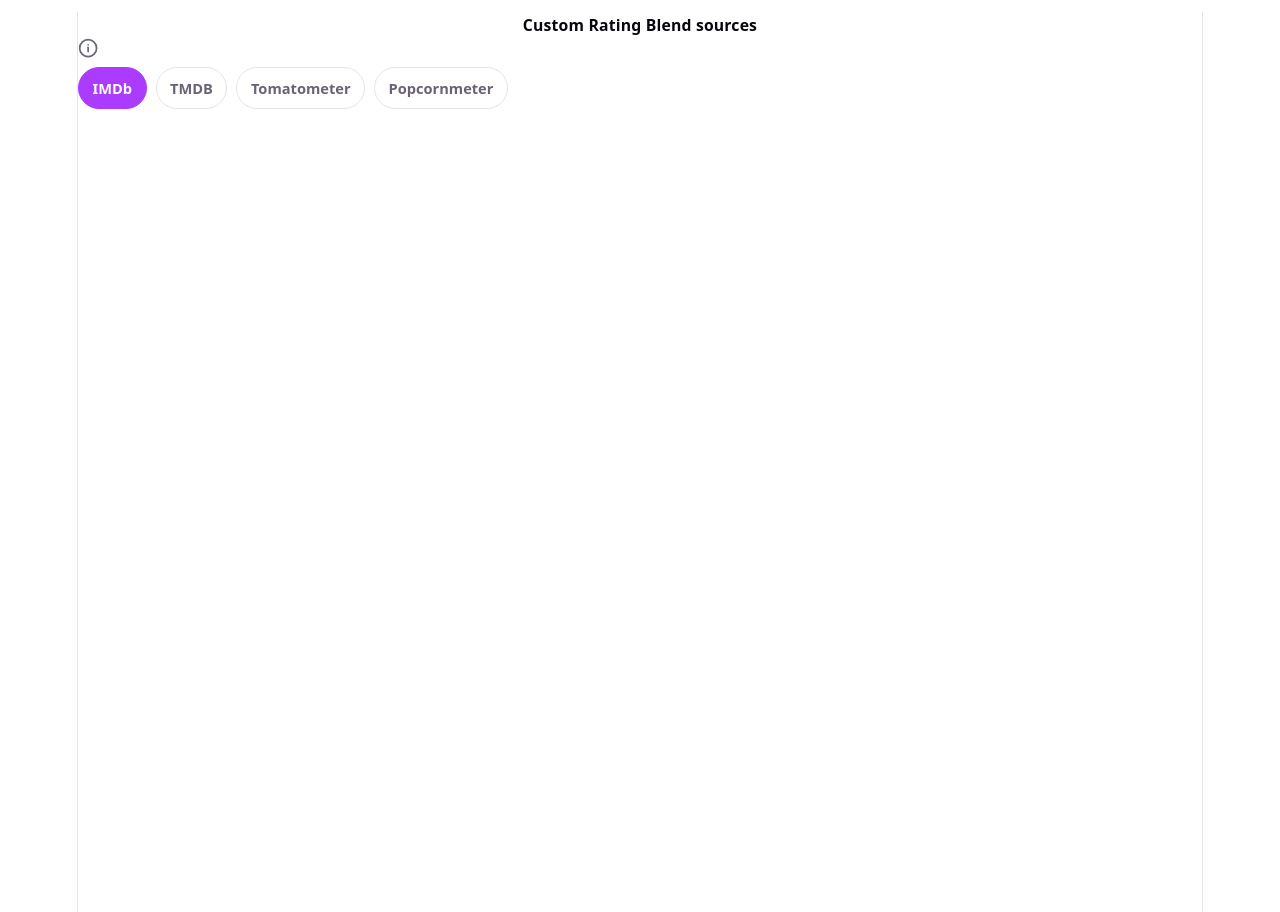
Test: FRONTEND-132 amendment: info disclosure explains the last-chip guard › reveals the last-chip-cannot-be-deselected explanation on click
The width and height of the screenshot is (1280, 912).
Click the button named "about custom rating blend sources" at (88, 48), box 78,38 -> 98,58
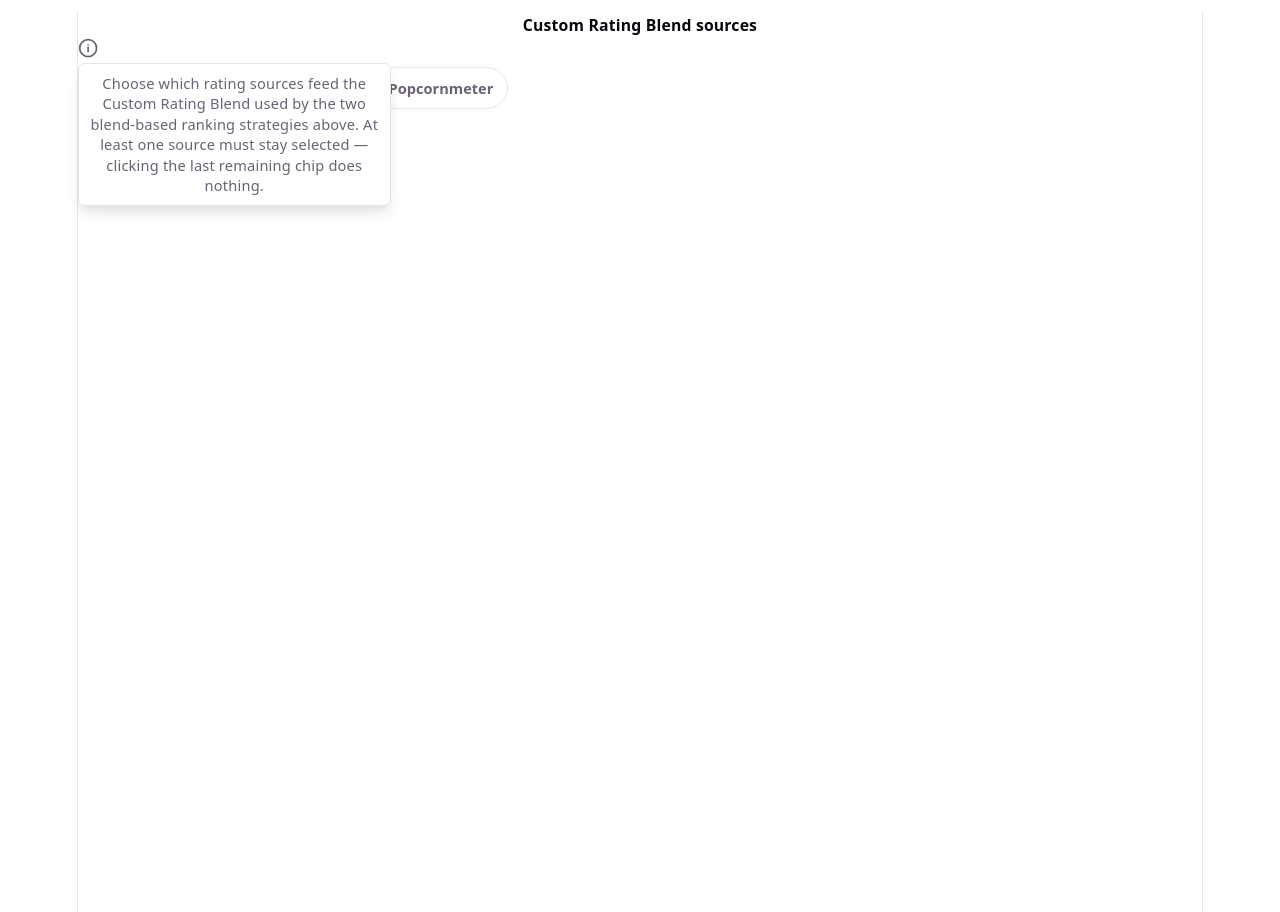
Expected: the text "clicking the last remaining chip does nothing" is shown, 90,73 -> 378,195
